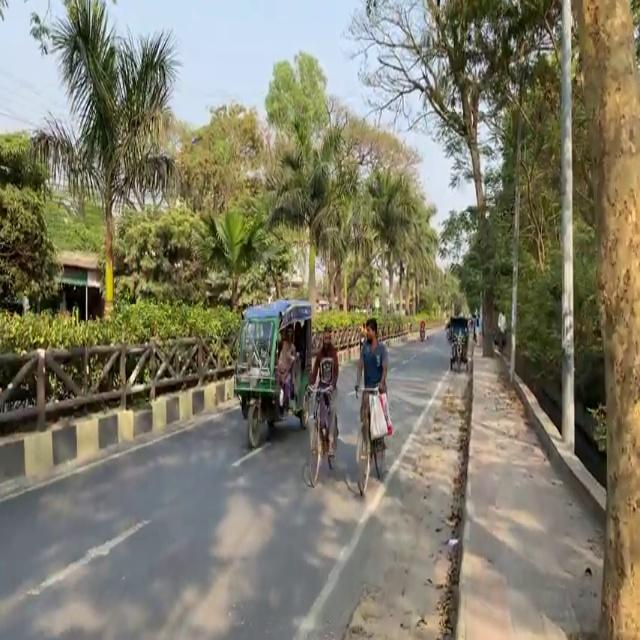Construction-barrier: (443, 350, 475, 639)
Garbage-bin: (354, 317, 390, 451), (307, 331, 339, 456), (275, 327, 297, 414), (419, 319, 426, 341)
Light-pole: (557, 0, 576, 453)
Pole: (0, 288, 239, 487)
Pothole: (453, 330, 606, 639)
Traffic-cone: (232, 297, 318, 449)
